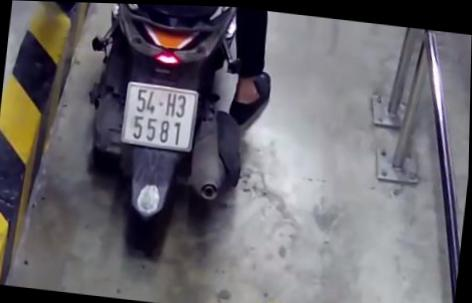LP: (119, 76, 201, 152)
